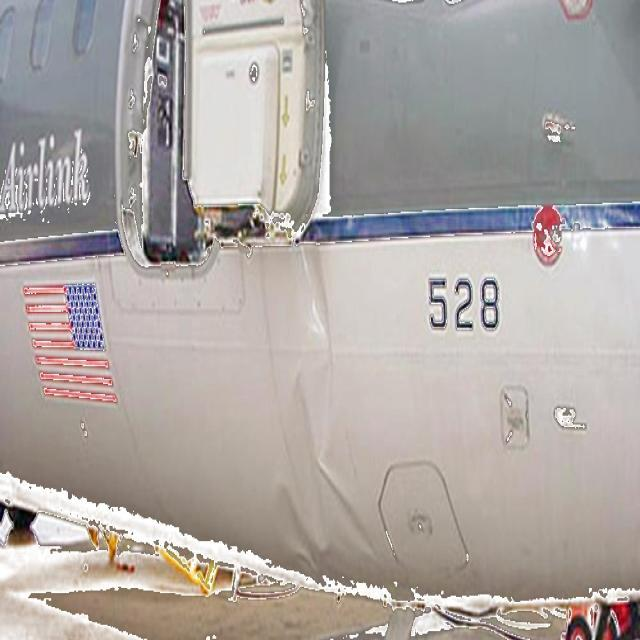dent: (271, 248, 383, 580)
